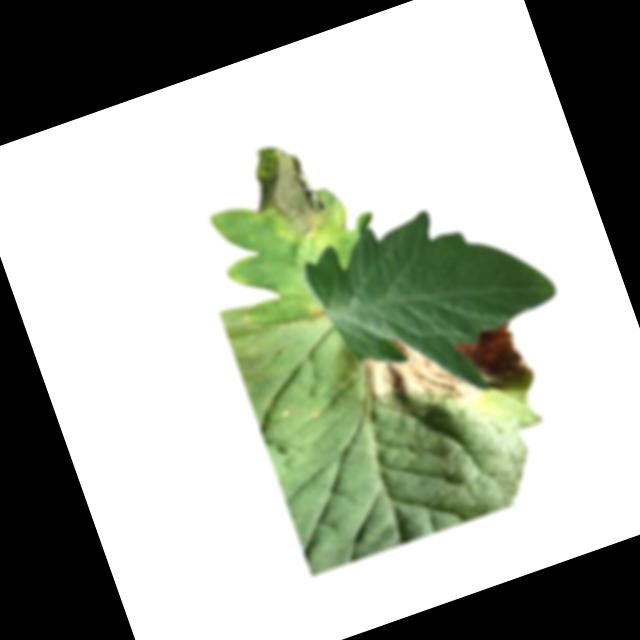Late_blight: (353, 318, 477, 430), (241, 132, 341, 249), (450, 317, 538, 406)
healthy: (297, 178, 561, 384)
